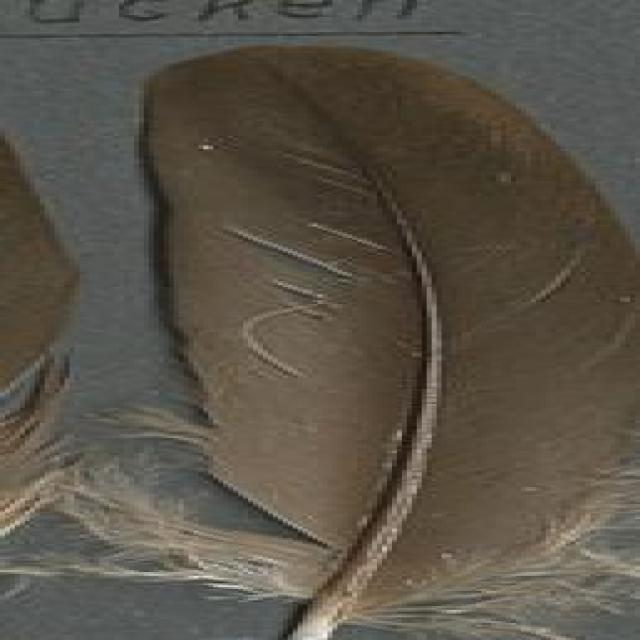feather: (64, 38, 640, 640)
